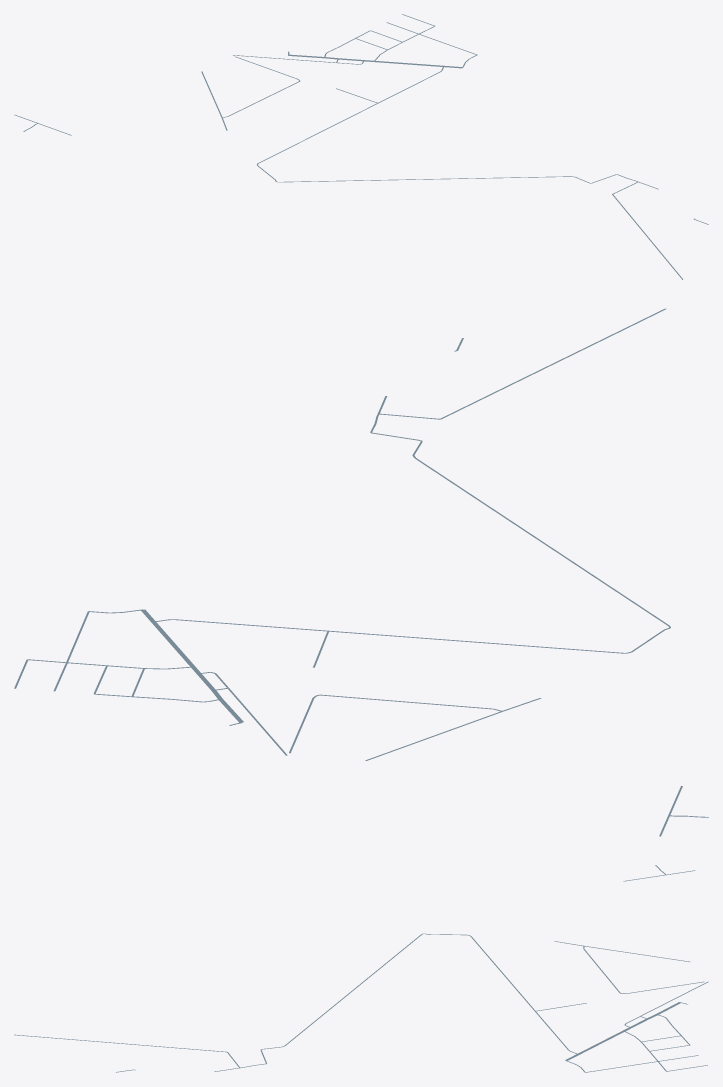
3 renders of one model, top to bottom at view 1: azimuth 30°, elevation 25°; view 2: azimuth 150°, elevation 25°; view 3: azimuth 270°, elevation 25°, orthographic. The views are drawn at different scales.
Bounding box in the file's own units: 1558 × 0 × 2204.
